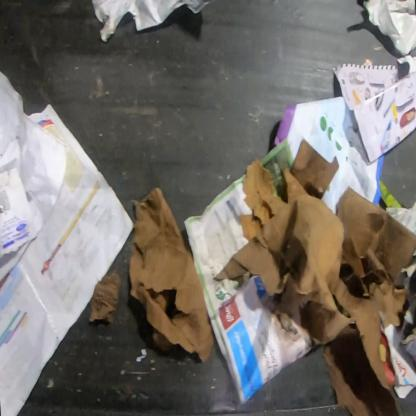cardboard: (214, 136, 415, 416), (129, 186, 213, 363), (90, 272, 121, 324)
